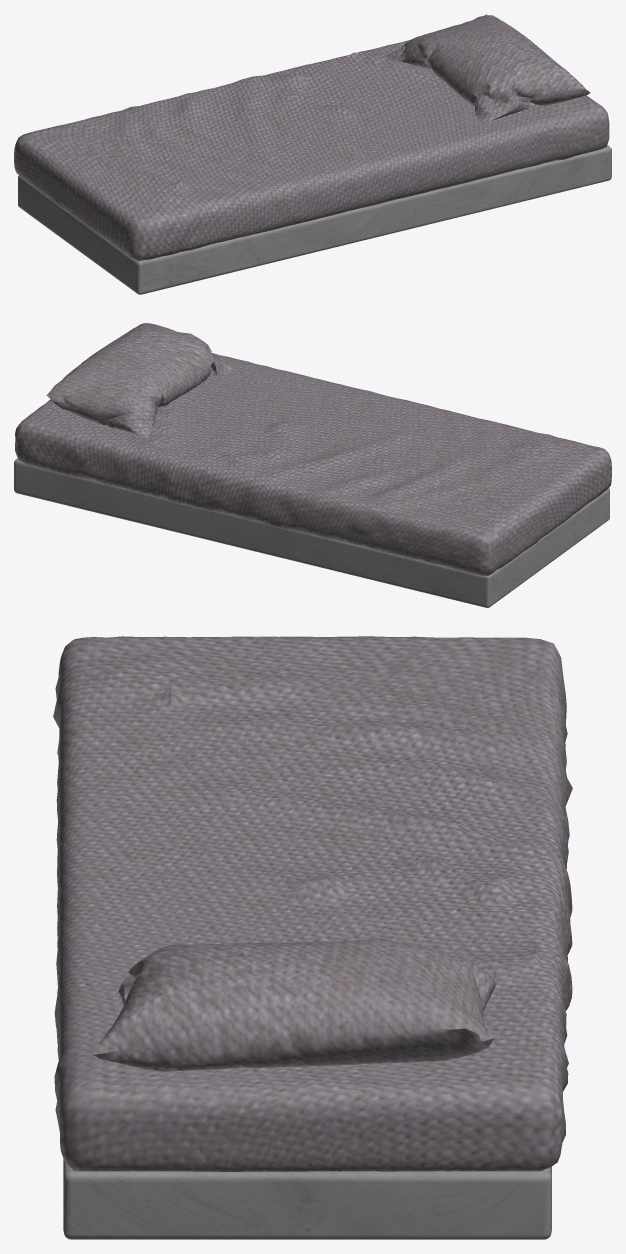
Rendered from bed.fbx.
The picture shows the model from 3 angles, top to bottom: view 1: azimuth 30°, elevation 25°; view 2: azimuth 150°, elevation 25°; view 3: azimuth 270°, elevation 25°; orthographic projection. The views are drawn at different scales.
Visible parts, largest first — view 1: Object_2.001; view 2: Object_2.001; view 3: Object_2.001.
Part boxes in pixels (left/top/right/bottom): Object_2.001: left=14, top=14, right=611, bottom=294; Object_2.001: left=14, top=323, right=611, bottom=607; Object_2.001: left=53, top=636, right=572, bottom=1239.
Size of the model in its own units: 470 by 105 by 221.
Materials: 2 (2 with a texture image).
